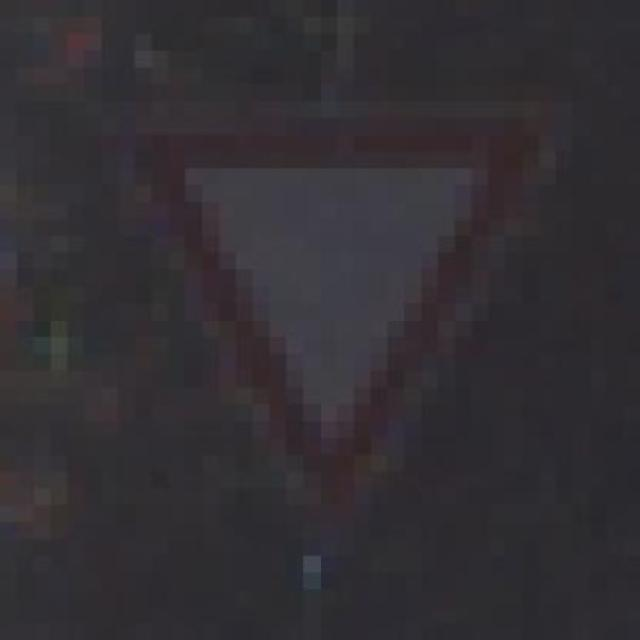Give Way: (135, 67, 573, 539)
